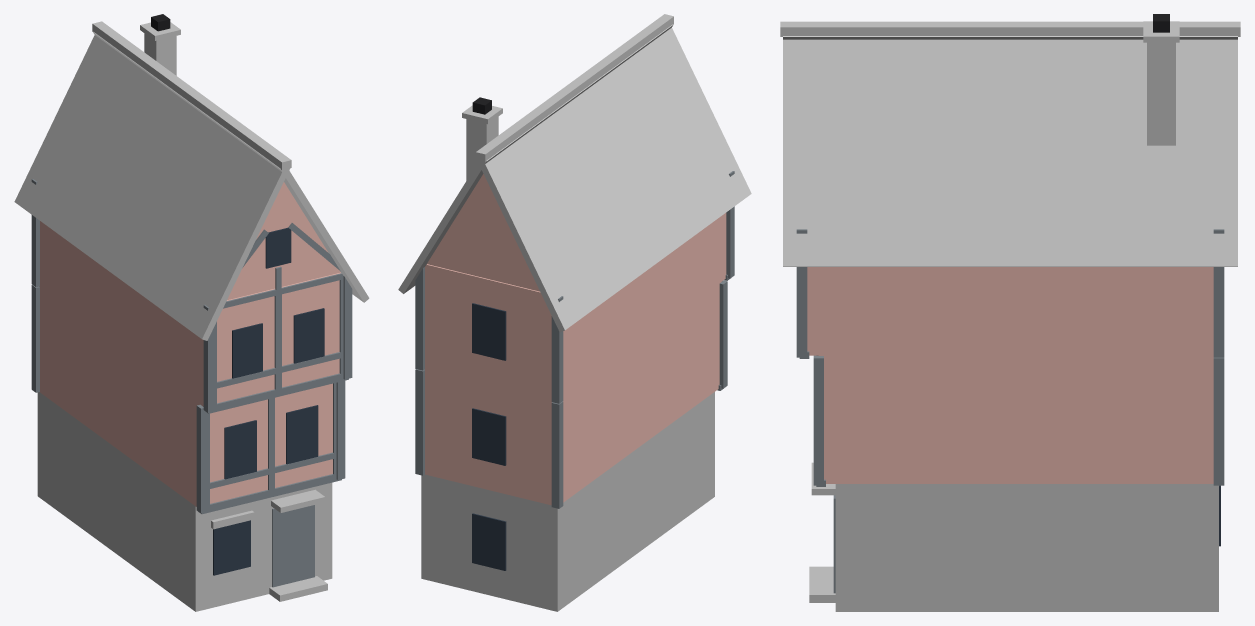
Rendered from generated.narrow_house.gltf.
3 views of the same model, side by side, from view 1: azimuth 30°, elevation 25°; view 2: azimuth 150°, elevation 25°; view 3: azimuth 270°, elevation 25° (orthographic). The views are drawn at different scales.
Parts seen in each view (by area): view 1: narrow_house; view 2: narrow_house; view 3: narrow_house.
Boxes of the visible parts, bbox=[...] form: narrow_house: bbox=[14, 14, 369, 611]; narrow_house: bbox=[398, 14, 751, 611]; narrow_house: bbox=[780, 14, 1240, 611].
Bounding box in the file's own units: 4.9 × 13.17 × 9.6.
